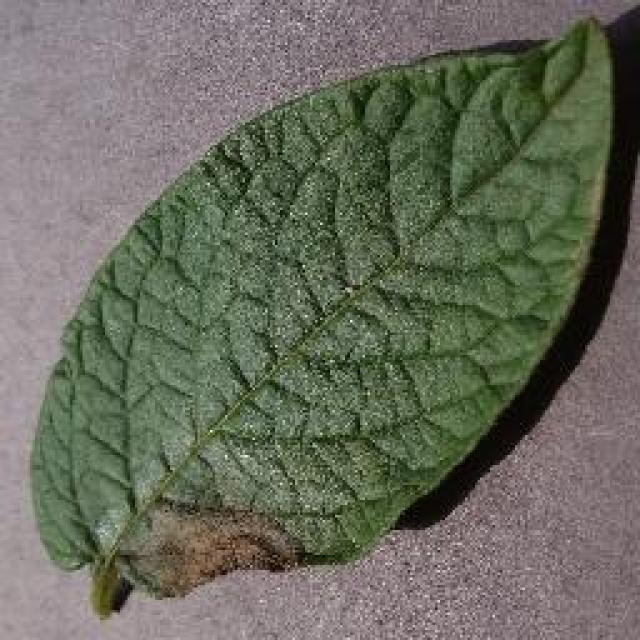late_blight: (25, 8, 627, 618)
